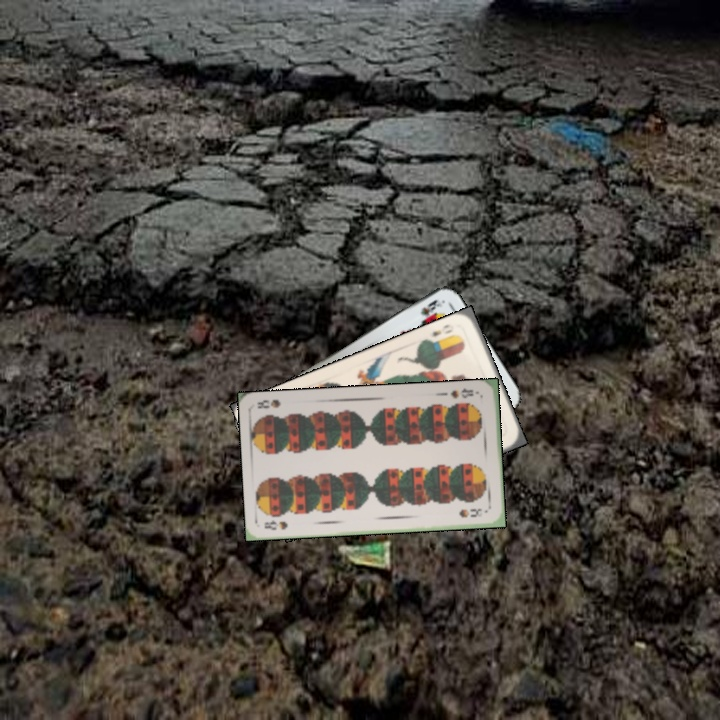EO: (427, 320, 456, 340)
S8: (260, 516, 290, 533), (447, 384, 476, 401)
SK: (416, 295, 445, 319)
